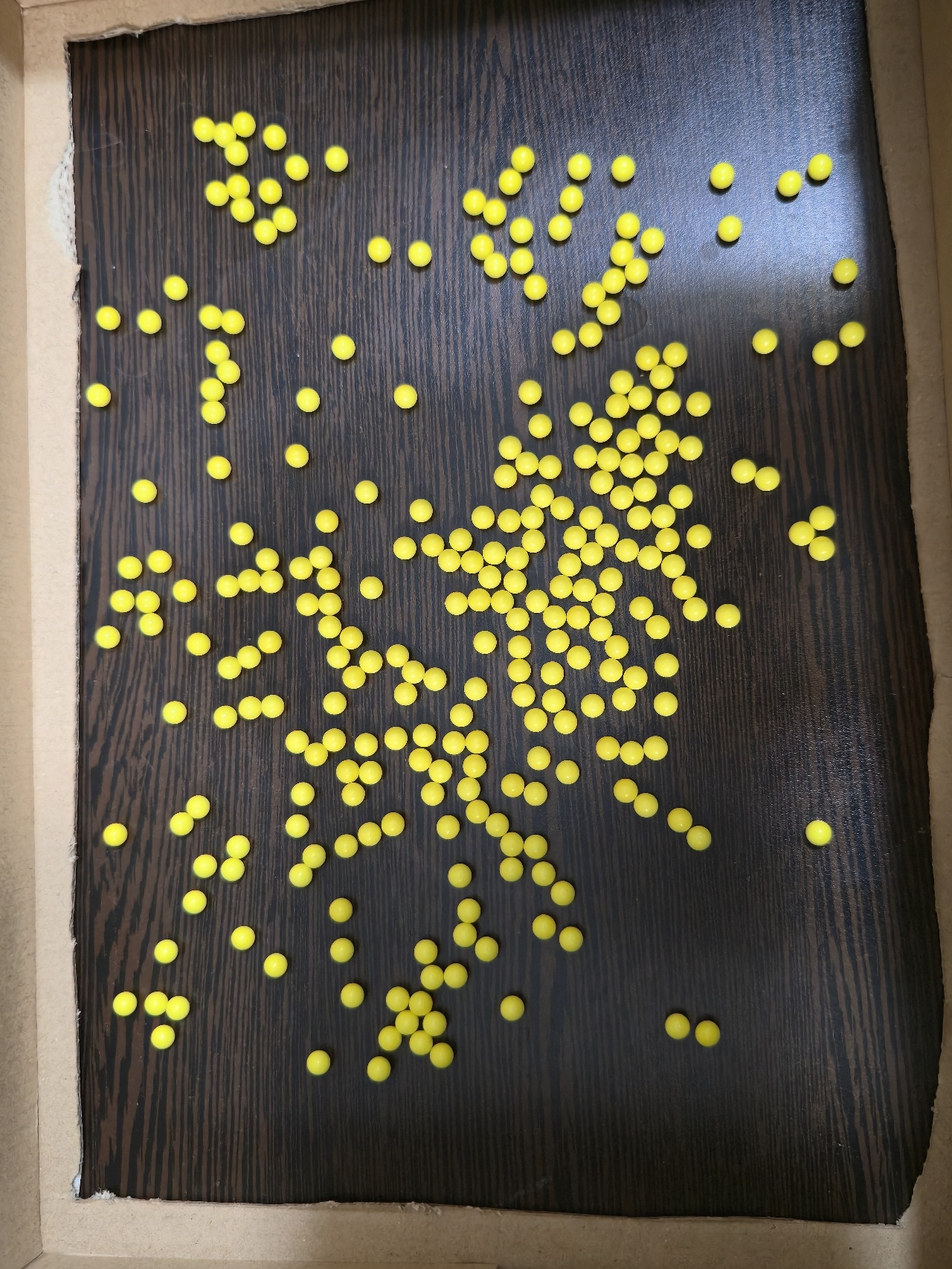yellow_bead: (199, 124, 242, 160), (211, 347, 233, 378), (205, 311, 237, 328), (812, 826, 826, 839), (815, 542, 829, 555), (607, 274, 620, 288), (783, 177, 797, 190), (373, 242, 385, 257), (226, 863, 239, 876), (655, 370, 668, 383), (818, 347, 832, 359), (558, 335, 570, 349), (631, 263, 643, 277), (646, 234, 658, 248), (515, 223, 527, 237), (716, 169, 728, 183), (617, 162, 629, 176), (814, 160, 826, 174), (490, 257, 501, 272), (237, 201, 248, 216), (649, 742, 662, 754), (643, 552, 656, 564), (661, 534, 674, 546), (796, 527, 808, 540), (633, 512, 646, 524), (761, 473, 774, 485), (661, 436, 673, 449), (207, 405, 219, 418), (611, 399, 623, 412), (692, 398, 704, 411), (524, 386, 536, 399), (206, 384, 218, 397), (616, 376, 628, 389), (337, 341, 349, 354), (759, 335, 771, 348), (846, 328, 858, 341), (602, 306, 614, 319), (169, 281, 181, 294), (839, 265, 852, 277), (616, 247, 628, 260), (724, 222, 736, 235), (277, 213, 289, 226), (170, 1003, 184, 1014), (150, 998, 164, 1009), (243, 575, 257, 586), (815, 513, 829, 524), (516, 254, 527, 268), (477, 240, 488, 254), (330, 152, 341, 166), (566, 191, 576, 206), (640, 800, 652, 812), (463, 783, 475, 795), (660, 698, 672, 710), (618, 693, 630, 705), (605, 664, 617, 676), (573, 652, 585, 664), (144, 618, 156, 630), (722, 610, 734, 622), (509, 576, 521, 588), (621, 544, 633, 556), (601, 530, 613, 542), (657, 510, 669, 522), (616, 492, 628, 504), (639, 483, 651, 495), (738, 466, 750, 478), (650, 457, 662, 469), (602, 454, 614, 466), (595, 424, 607, 436), (575, 408, 587, 420), (634, 392, 646, 404), (669, 349, 681, 361), (242, 652, 255, 663), (264, 576, 277, 587), (692, 531, 705, 542), (585, 328, 596, 341), (144, 315, 155, 328), (260, 225, 271, 238), (291, 161, 302, 174), (244, 703, 258, 713), (223, 663, 237, 673), (115, 596, 129, 606), (530, 280, 540, 294), (484, 206, 498, 216), (313, 1057, 324, 1069), (157, 1032, 169, 1043), (672, 1021, 684, 1032), (119, 999, 131, 1010), (420, 946, 431, 958), (160, 946, 172, 957), (237, 932, 248, 944), (459, 929, 470, 941), (538, 868, 549, 880), (232, 842, 244, 853), (693, 832, 704, 844), (364, 829, 376, 840), (530, 788, 541, 800), (434, 766, 446, 777), (390, 733, 402, 744), (167, 707, 179, 718), (587, 701, 599, 712), (548, 695, 559, 707), (629, 673, 641, 684), (660, 660, 672, 671), (332, 652, 344, 663), (689, 604, 701, 615), (178, 586, 190, 597), (579, 585, 591, 596), (679, 582, 690, 594), (556, 581, 567, 593), (605, 574, 617, 585), (123, 562, 135, 573), (667, 561, 679, 572), (152, 556, 164, 567), (489, 547, 500, 559), (528, 535, 539, 547), (570, 532, 581, 544), (585, 512, 596, 524), (527, 512, 538, 524), (675, 491, 686, 503), (536, 490, 547, 502), (544, 462, 556, 473), (626, 460, 637, 472), (521, 458, 533, 469), (580, 451, 592, 462), (684, 443, 696, 454), (623, 435, 634, 447), (643, 420, 654, 432), (663, 397, 675, 408), (642, 353, 654, 364), (102, 312, 113, 324), (589, 289, 600, 301), (302, 600, 315, 610), (222, 581, 235, 591), (303, 393, 313, 406), (211, 190, 224, 200), (270, 960, 281, 971), (336, 945, 347, 956), (565, 934, 576, 945), (335, 905, 346, 916), (454, 870, 465, 881), (295, 870, 306, 881), (309, 851, 320, 862), (530, 841, 541, 852), (341, 841, 352, 852), (506, 839, 517, 850), (292, 821, 303, 832), (492, 820, 503, 831), (675, 815, 686, 826), (297, 789, 308, 800), (507, 780, 518, 791), (562, 767, 573, 778), (533, 753, 544, 764), (626, 748, 637, 759), (603, 743, 614, 754), (266, 701, 277, 712), (329, 698, 340, 709), (518, 690, 529, 701), (470, 684, 481, 695), (348, 672, 359, 683), (652, 622, 663, 633), (324, 621, 335, 632), (512, 614, 523, 625), (573, 612, 584, 623), (636, 603, 647, 614), (598, 600, 609, 611), (497, 597, 508, 608), (141, 597, 152, 608), (532, 596, 543, 607), (484, 571, 495, 582), (295, 563, 306, 574), (564, 560, 575, 571), (466, 557, 477, 568), (444, 555, 455, 566), (512, 553, 523, 564), (315, 552, 326, 563), (586, 549, 597, 560), (504, 515, 515, 526), (477, 512, 488, 523), (361, 487, 372, 498), (596, 477, 607, 488), (500, 471, 511, 482), (535, 420, 546, 431), (400, 391, 411, 402), (623, 219, 634, 230), (264, 185, 275, 196), (188, 897, 200, 907), (506, 864, 516, 876), (199, 861, 211, 871), (109, 830, 121, 840), (192, 802, 204, 812), (427, 788, 437, 800), (364, 768, 376, 778), (219, 712, 231, 722), (428, 675, 440, 685), (611, 643, 623, 653), (323, 600, 335, 610), (451, 599, 463, 609), (473, 595, 485, 605), (399, 543, 411, 553), (139, 485, 149, 497), (505, 442, 515, 454), (93, 389, 103, 401), (469, 199, 481, 209), (392, 993, 401, 1006), (373, 1064, 383, 1075), (429, 1019, 440, 1029), (506, 1003, 516, 1014), (450, 971, 460, 982), (481, 944, 491, 955), (463, 906, 474, 916), (557, 888, 567, 899), (443, 822, 453, 833), (387, 820, 398, 830), (176, 819, 187, 829), (472, 807, 483, 817), (348, 789, 358, 800), (620, 787, 631, 797), (342, 766, 352, 777), (469, 761, 480, 771), (310, 750, 321, 760), (361, 740, 371, 751), (448, 738, 459, 748), (472, 737, 482, 748), (292, 737, 302, 748), (419, 730, 429, 741), (560, 717, 570, 728), (530, 716, 541, 726), (456, 710, 466, 721), (400, 689, 411, 699), (547, 668, 557, 679), (408, 668, 419, 678), (514, 665, 524, 676), (365, 657, 376, 667), (392, 651, 403, 661), (480, 637, 490, 648), (553, 636, 563, 647), (595, 625, 606, 635), (550, 612, 560, 623), (262, 554, 272, 565), (427, 540, 438, 550), (455, 535, 466, 545), (235, 529, 246, 539), (321, 516, 331, 527), (416, 505, 426, 516), (556, 504, 567, 514), (213, 463, 224, 473), (505, 174, 516, 184), (518, 154, 529, 164), (192, 640, 204, 649), (573, 165, 585, 174), (347, 991, 357, 1001), (427, 973, 437, 983), (415, 755, 425, 765), (329, 735, 339, 745), (514, 642, 524, 652), (264, 637, 274, 647), (366, 583, 376, 593), (323, 574, 333, 584), (292, 451, 302, 461), (416, 1038, 425, 1049), (346, 634, 357, 643), (402, 1020, 412, 1029), (538, 923, 547, 933), (554, 228, 566, 235), (415, 998, 422, 1009), (268, 131, 277, 139), (414, 255, 425, 260), (436, 1051, 441, 1061), (385, 1035, 390, 1044), (234, 184, 239, 193), (104, 640, 112, 643), (239, 122, 245, 126), (101, 639, 103, 641), (706, 1032, 707, 1033)
